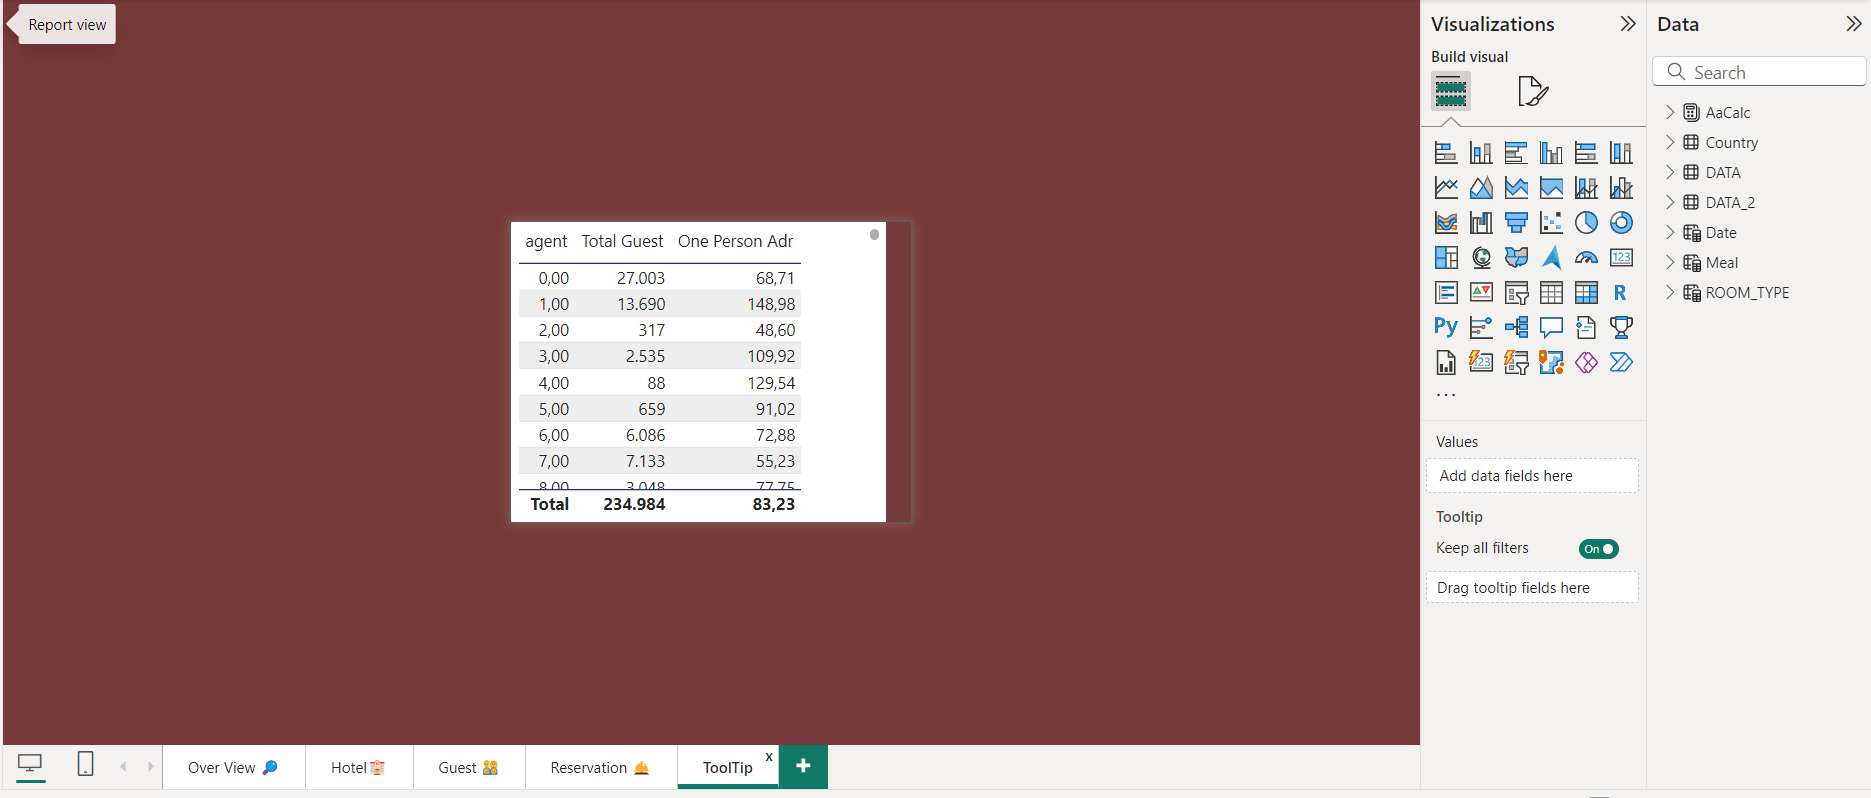

The dashboard page shown, as its layout file describes it:
{"tool":"powerbi","page":{"name":"ToolTip","canvas":[320,240],"ordinal":4},"visuals":[{"type":"tableEx","fields":{"Values":["DATA.agent","AaCalc.Total Guest","AaCalc.One Person Adr"]},"box":[0,0,300,240],"z":0}]}

Visuals, with their boxes on the page's 320x240 design canvas (x1, y1, x2, y2). These are canvas units, not pixel positions in the 1871x798 screenshot, which may show the page scaled, cropped or inside an application window:
tableEx - DATA.agent x AaCalc.Total Guest: (0,0,300,240)
